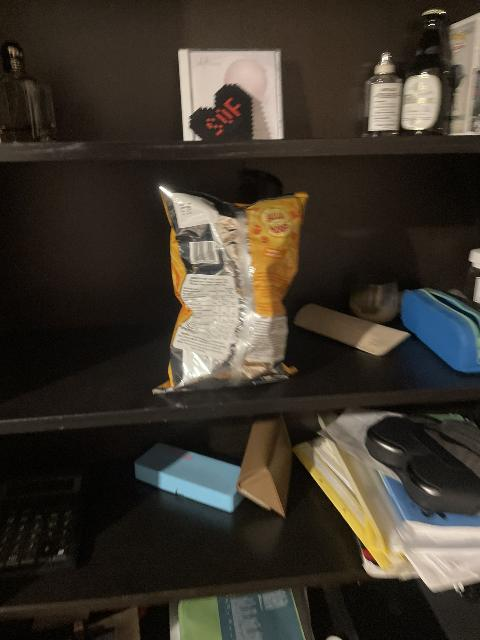Chio Hula Hoops Cheese 70g: (158, 189, 315, 391)
